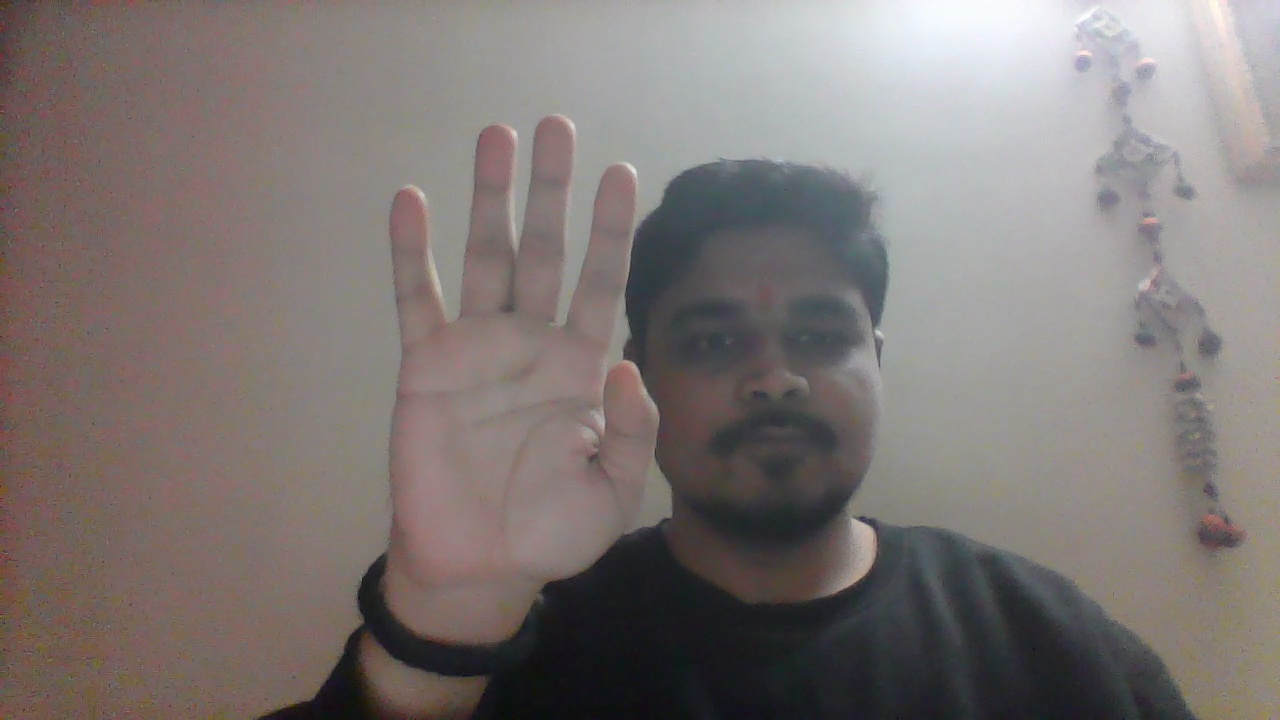Hello: (379, 103, 661, 621)
